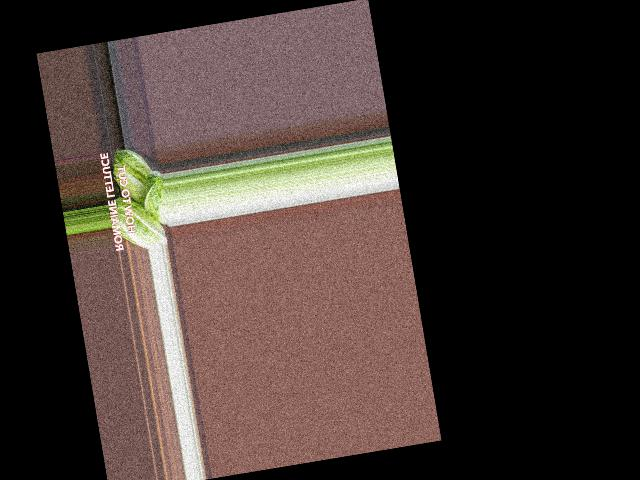lettuce: (104, 142, 161, 214)
